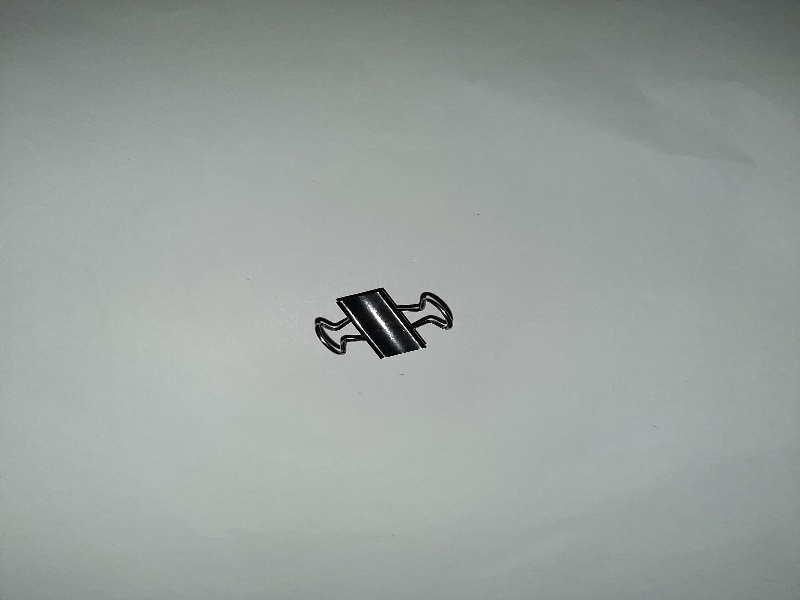Big Paperclip: (300, 276, 459, 371)
